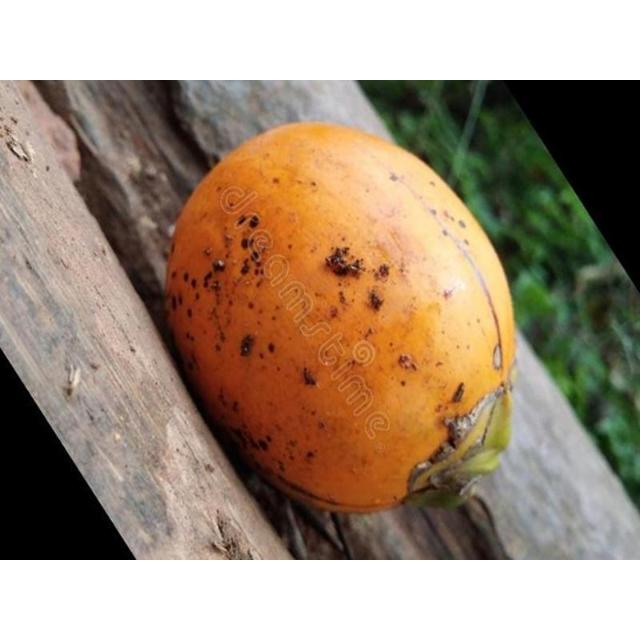good: (162, 122, 519, 517)
